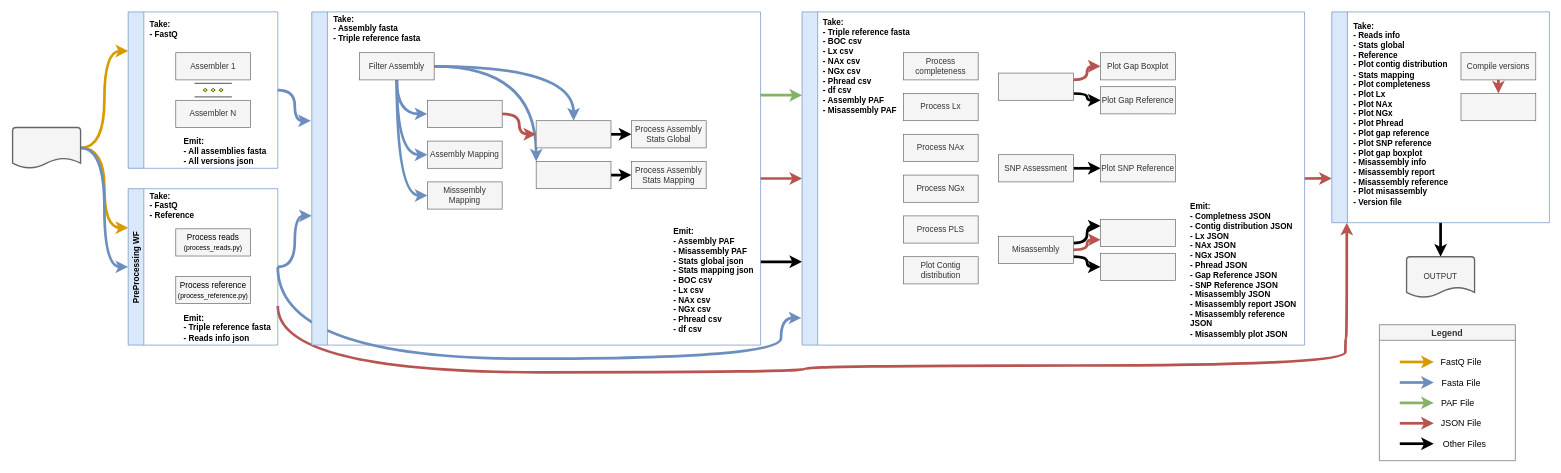
The diagram is 1561 pixels wide and 473 high, and some of its shapes have lost their labels. Each missing label, with the box of its shape:
Assembly Stats Global: (536, 120, 611, 148)
Assembly Stats Mapping: (536, 161, 611, 189)
Assembly WF: (128, 11, 278, 168)
Compile report: (1460, 93, 1536, 121)
Gap Assessment: (998, 72, 1073, 100)
INPUT: (12, 126, 81, 169)
Mapping WF: (311, 11, 761, 345)
Plot Misassembly: (1100, 253, 1175, 280)
Postprocessing WF: (801, 11, 1305, 345)
Process Misassembly: (1100, 219, 1175, 247)
Read Mapping: (427, 100, 502, 128)
Report WF: (1331, 11, 1549, 223)
